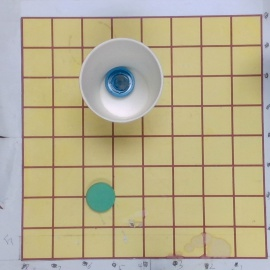cup_blue: (79, 37, 166, 124)
green: (85, 182, 116, 213)
